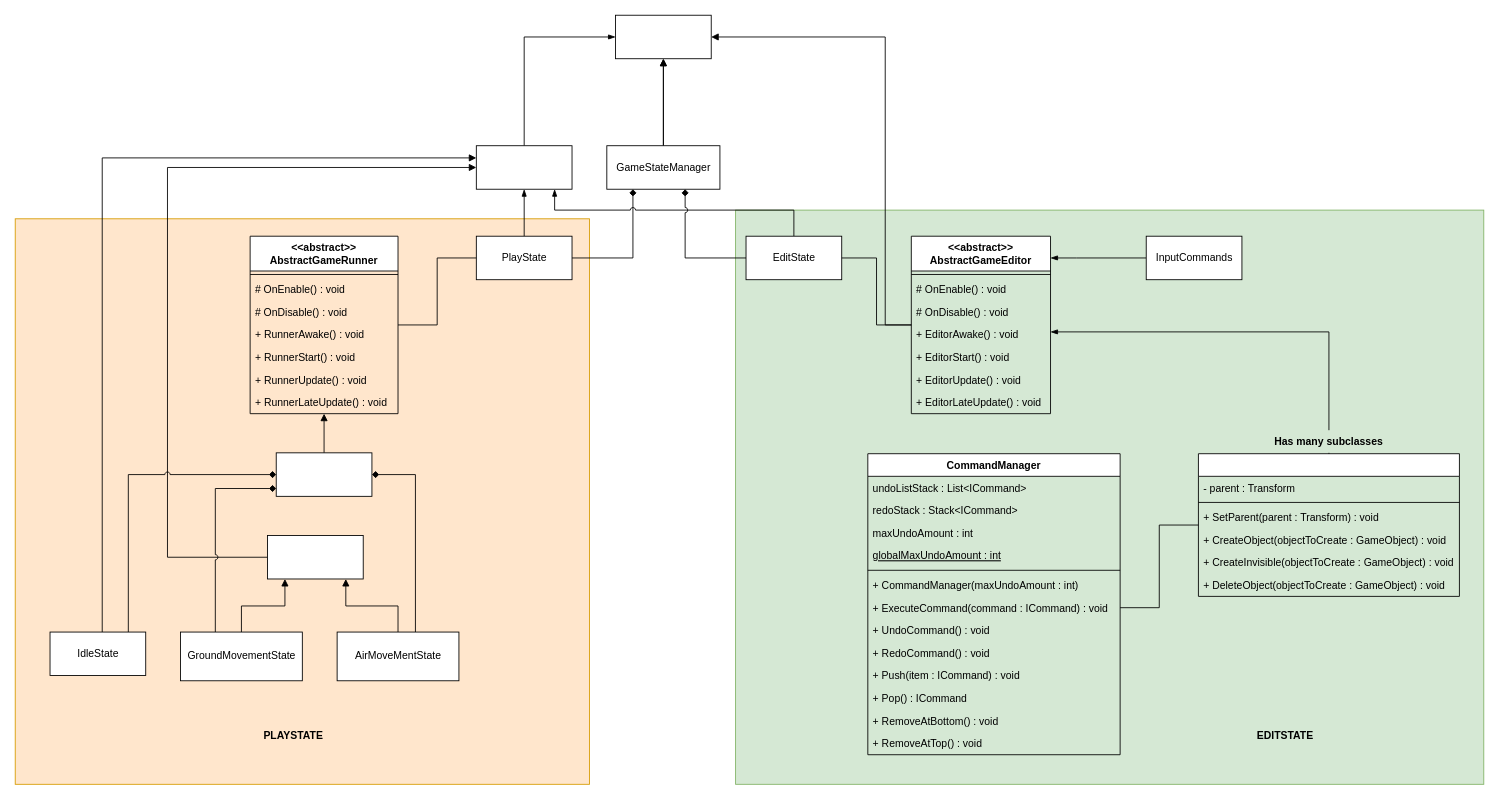
The diagram is 1499 pixels wide and 800 high, and some of its shapes have lost their labels. Each missing label, with the box of its shape:
BaseObjectCommand: (1198, 453, 1459, 596)
BaseState: (475, 145, 572, 189)
MonoBehaviour: (615, 14, 711, 59)
MovementState: (267, 535, 363, 579)
PlayerStateManager: (275, 452, 372, 496)
